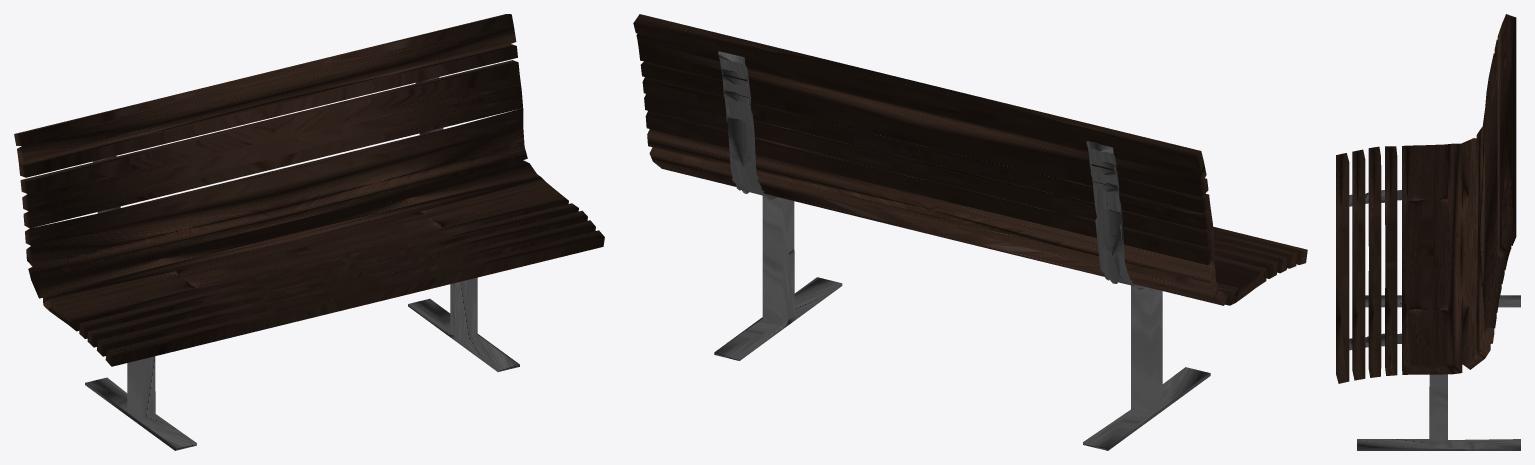
The model's file is bench.low.glb.
The picture shows the model from 3 angles, left to right: view 1: azimuth 30°, elevation 25°; view 2: azimuth 150°, elevation 25°; view 3: azimuth 270°, elevation 25°; orthographic projection. The views are drawn at different scales.
Parts seen in each view (by area): view 1: wood, frame; view 2: wood, frame; view 3: wood, frame.
Boxes of the visible parts, bbox=[...] form: wood: bbox=[14, 14, 604, 366]; frame: bbox=[85, 77, 519, 450]; wood: bbox=[633, 14, 1307, 305]; frame: bbox=[714, 51, 1210, 450]; wood: bbox=[1336, 14, 1516, 383]; frame: bbox=[1349, 190, 1520, 450].
Size of the model in its own units: 1.55 by 0.82 by 0.5483.
Materials: 2 (2 with a texture image).
